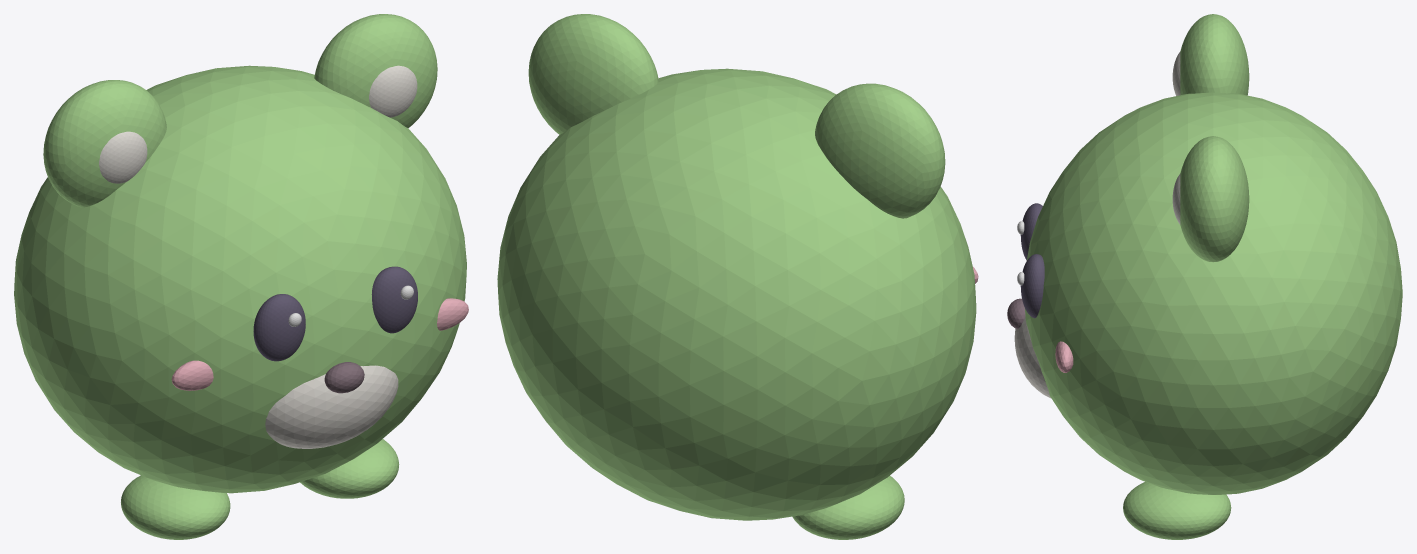
Rendered from kumarun_leaf.glb.
3 views of the same model, side by side, from view 1: azimuth 30°, elevation 25°; view 2: azimuth 150°, elevation 25°; view 3: azimuth 270°, elevation 25° (orthographic). The views are drawn at different scales.
Visible parts, largest first — view 1: kumarun_0, kumarun_1, kumarun_3, kumarun_5, kumarun_13, kumarun_14, kumarun_7, kumarun_10, kumarun_2, kumarun_4, kumarun_9, kumarun_6 (+1 smaller); view 2: kumarun_0, kumarun_1, kumarun_3, kumarun_13; view 3: kumarun_0, kumarun_3, kumarun_1, kumarun_14, kumarun_5, kumarun_10, kumarun_7.
Boxes of the visible parts, bbox=[...] form: kumarun_0: bbox=[14, 65, 466, 493]; kumarun_1: bbox=[43, 80, 166, 207]; kumarun_3: bbox=[314, 14, 437, 128]; kumarun_5: bbox=[265, 365, 398, 448]; kumarun_13: bbox=[121, 475, 230, 539]; kumarun_14: bbox=[300, 439, 399, 498]; kumarun_7: bbox=[253, 294, 305, 361]; kumarun_10: bbox=[371, 266, 417, 333]; kumarun_2: bbox=[99, 131, 147, 183]; kumarun_4: bbox=[369, 65, 417, 117]; kumarun_9: bbox=[171, 360, 213, 390]; kumarun_6: bbox=[324, 362, 364, 393]; kumarun_0: bbox=[497, 68, 976, 520]; kumarun_1: bbox=[815, 83, 945, 218]; kumarun_3: bbox=[528, 14, 658, 134]; kumarun_13: bbox=[792, 476, 904, 539]; kumarun_0: bbox=[1025, 92, 1402, 494]; kumarun_3: bbox=[1180, 136, 1249, 262]; kumarun_1: bbox=[1180, 14, 1249, 95]; kumarun_14: bbox=[1123, 482, 1231, 539]; kumarun_5: bbox=[1014, 316, 1051, 398]; kumarun_10: bbox=[1020, 254, 1044, 318]; kumarun_7: bbox=[1020, 203, 1042, 260].
Bounding box in the file's own units: 1.25 × 1.31 × 1.14.
